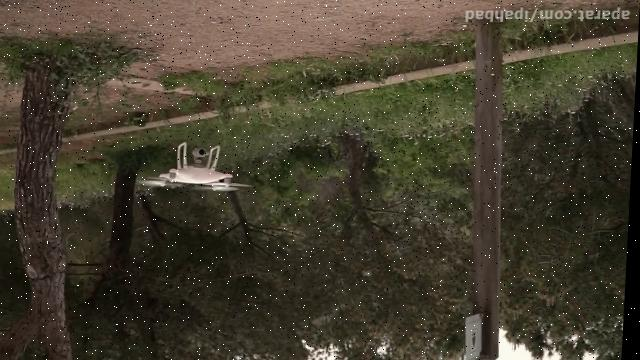drone: (141, 142, 258, 192)
